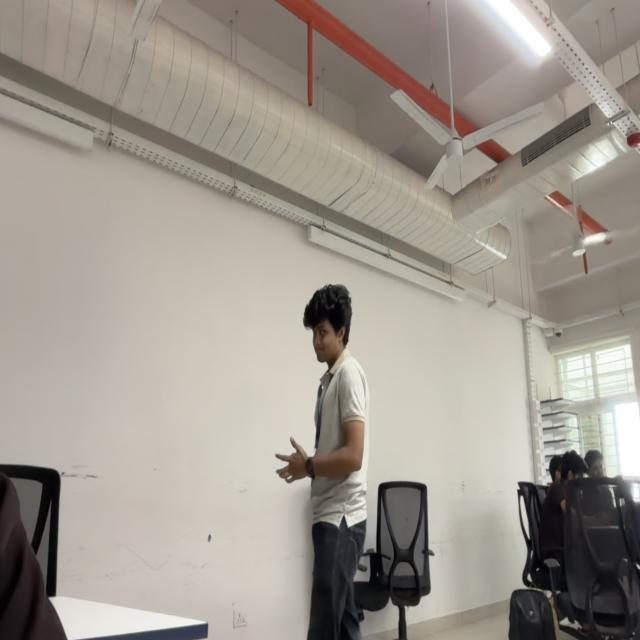kshitij: (303, 283, 352, 363)
